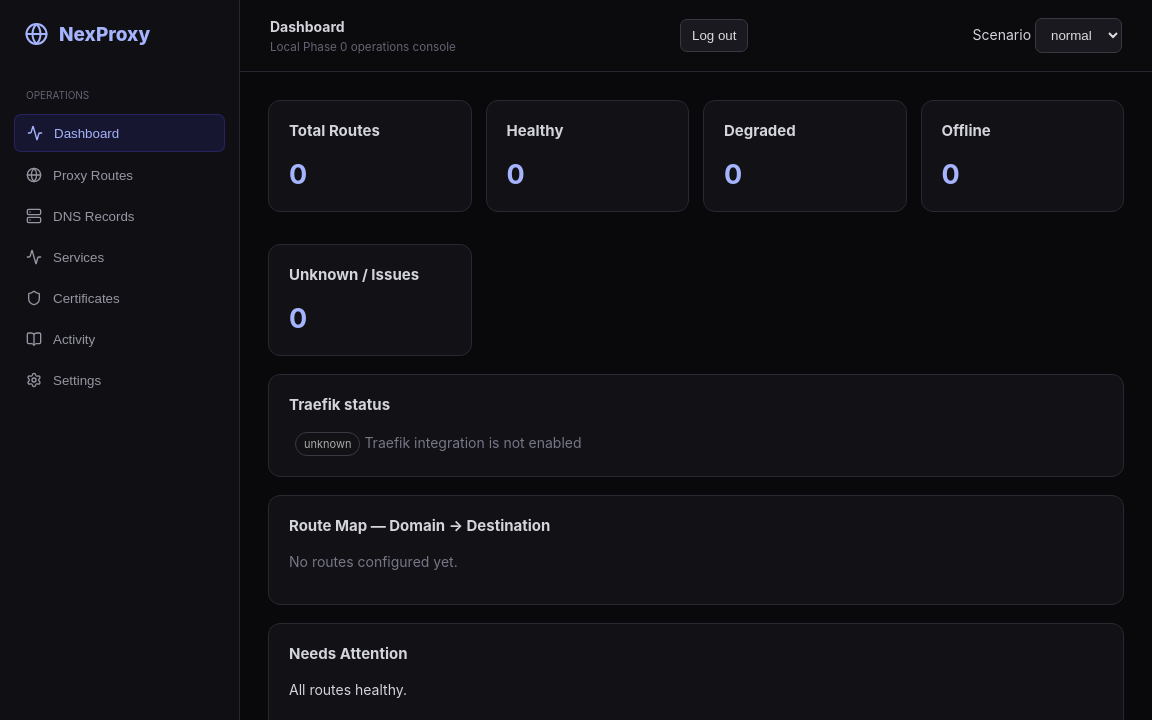
Test case: Phase 1 API truthfulness › renders backend services even when routes differ
This screenshot has width=1152, height=720.
Expected: the text "unknown" is shown, [295,432,360,456]
What coordinates should you click on to do the following:
click the button "Services"
I would click on:
 (120, 257)
Its box is [14,239,225,275].
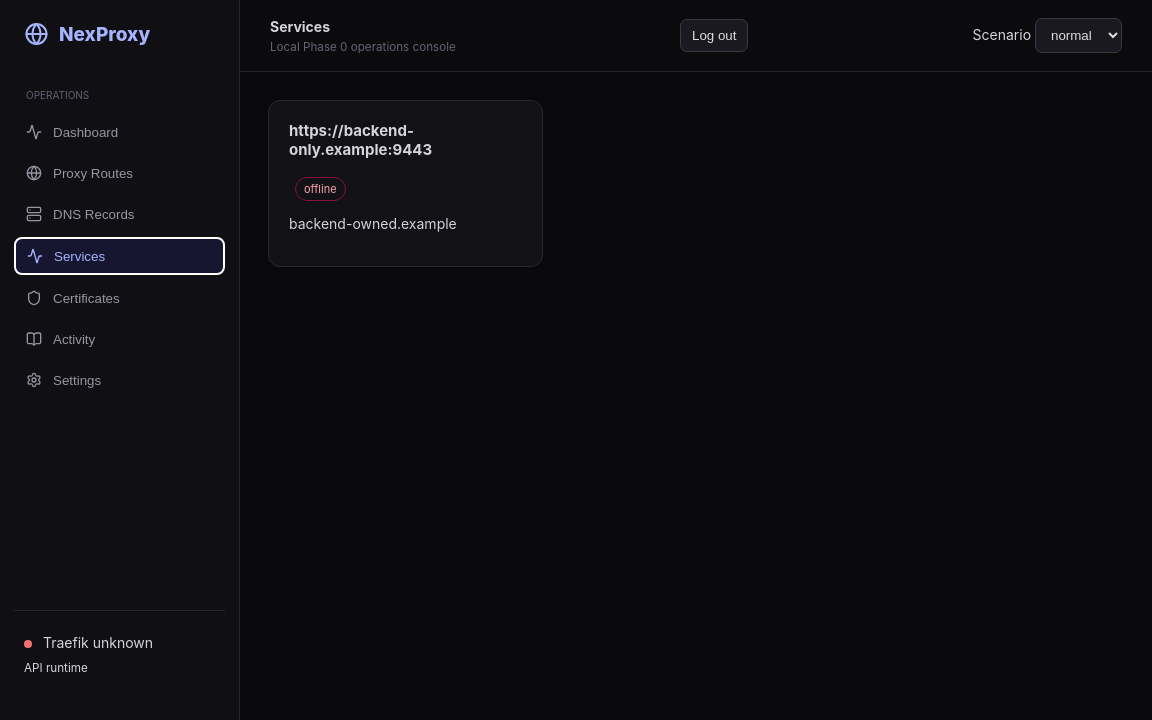
Now the heading "https://backend-only.example:9443" is shown, box [289,121,432,159]
Now the text "backend-owned.example" is shown, box [289,215,457,232]
